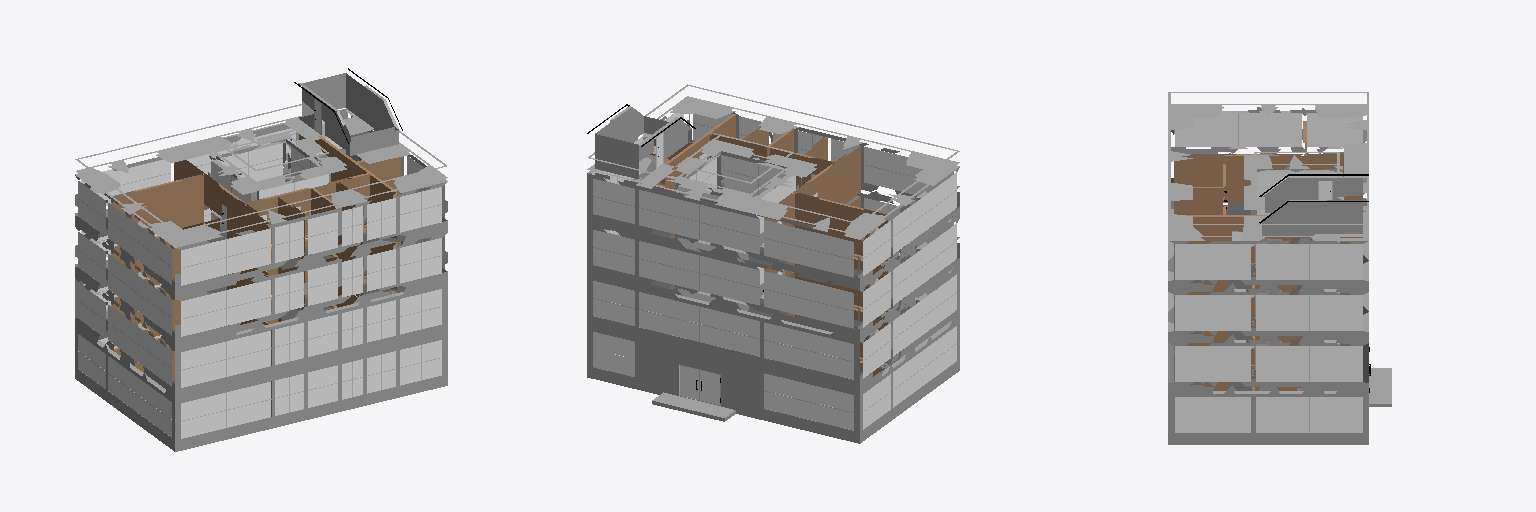
File: Building_Pilot01.obj
The picture shows the model from 3 angles: view 1: azimuth 30°, elevation 25°; view 2: azimuth 150°, elevation 25°; view 3: azimuth 270°, elevation 25°; orthographic projection.
Parts seen in each view (by area): view 1: object_237, object_238, object_87, object_11, object_242, object_169, object_213, object_159, object_202, object_93, object_9, object_107 (+28 smaller); view 2: object_4, object_237, object_238, object_83, object_153, object_195, object_84, object_242, object_200, object_156, object_154, object_196 (+28 smaller); view 3: object_237, object_238, object_242, object_23, object_222, object_20, object_99, object_171, object_216, object_22, object_100, object_174 (+13 smaller).
Part boxes in pixels (x1,y1,x2,y2): object_237: (111, 134, 400, 259); object_238: (75, 109, 447, 247); object_87: (175, 284, 447, 400); object_11: (175, 335, 447, 451); object_242: (298, 73, 398, 155); object_169: (175, 233, 447, 349); object_213: (175, 182, 447, 298); object_159: (181, 280, 270, 336); object_202: (181, 228, 270, 285); object_93: (181, 331, 270, 387); object_9: (181, 382, 270, 438); object_107: (108, 305, 171, 386); object_4: (587, 327, 859, 443); object_237: (639, 114, 887, 262); object_238: (587, 96, 959, 239); object_83: (587, 275, 859, 392); object_153: (639, 241, 759, 305); object_195: (639, 190, 759, 254); object_84: (639, 292, 759, 356); object_242: (595, 106, 691, 180); object_200: (587, 173, 859, 290); object_156: (587, 224, 859, 341); object_154: (764, 271, 853, 328); object_196: (764, 220, 853, 277); object_237: (1174, 121, 1362, 274); object_238: (1168, 104, 1366, 240); object_242: (1262, 177, 1365, 235); object_23: (1168, 391, 1368, 444); object_222: (1175, 111, 1301, 146); object_20: (1256, 397, 1362, 432); object_99: (1256, 346, 1362, 381); object_171: (1256, 295, 1362, 330); object_216: (1256, 244, 1362, 279); object_22: (1175, 397, 1250, 432); object_100: (1175, 346, 1250, 381); object_174: (1175, 295, 1250, 330).
Size of the model in its own units: 19.6 by 16.74 by 13.9.